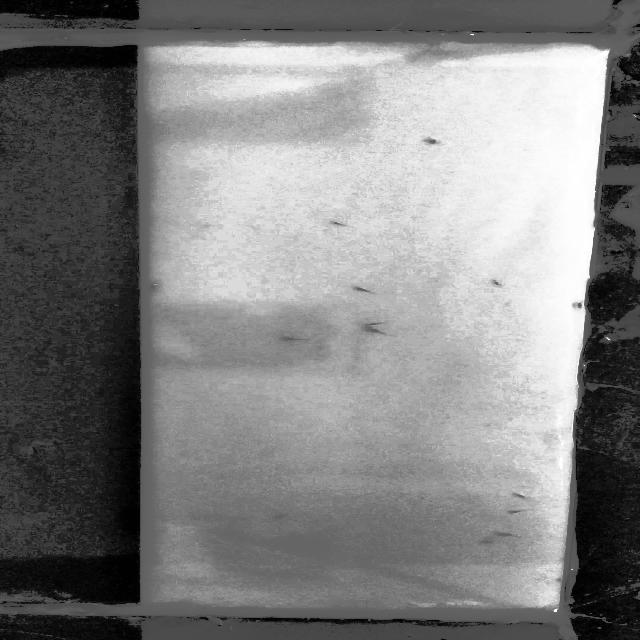shrimp: (142, 281, 178, 298), (315, 217, 350, 234), (270, 331, 304, 344), (344, 286, 388, 296), (355, 314, 388, 327), (261, 511, 294, 524), (418, 132, 444, 148), (363, 327, 394, 339), (480, 276, 509, 288), (491, 529, 522, 540), (502, 508, 536, 518), (506, 488, 532, 501)
